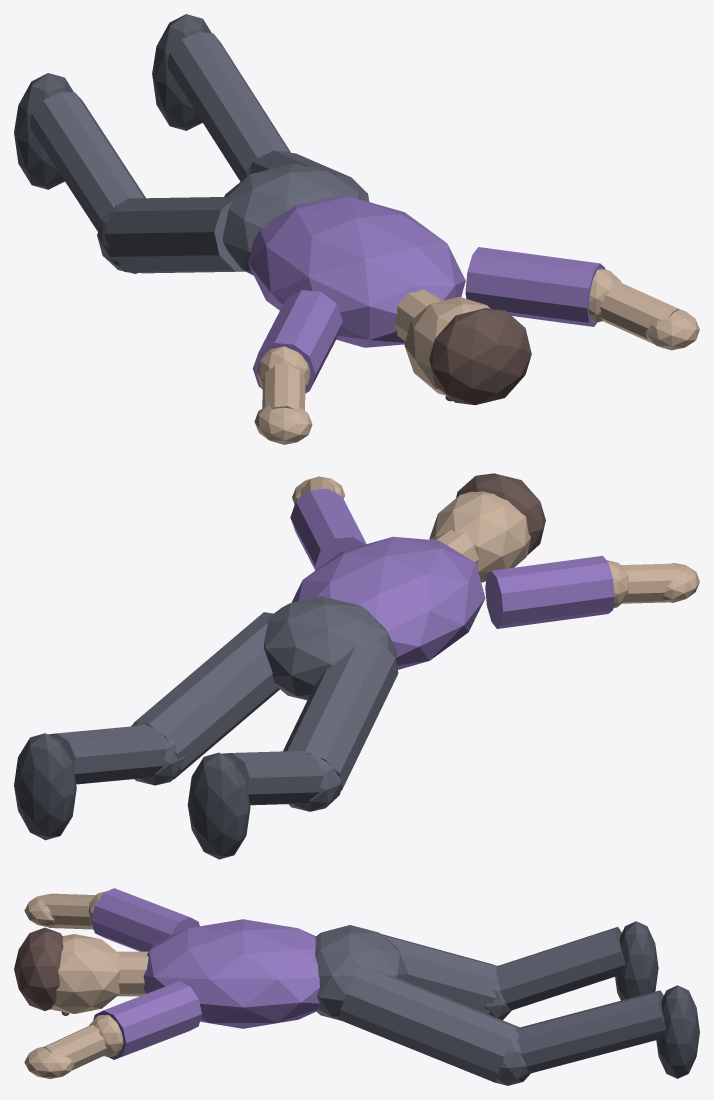
3 renders of one model, top to bottom at view 1: azimuth 30°, elevation 25°; view 2: azimuth 150°, elevation 25°; view 3: azimuth 270°, elevation 25°, orthographic. The views are drawn at different scales.
Parts seen in each view (by area): view 1: world; view 2: world; view 3: world.
Boxes of the visible parts, x1,y1,x2,y2 form: world: (14, 14, 699, 444); world: (14, 473, 699, 859); world: (14, 888, 699, 1085).
Bounding box in the file's own units: 1.17 × 0.38 × 1.99.
